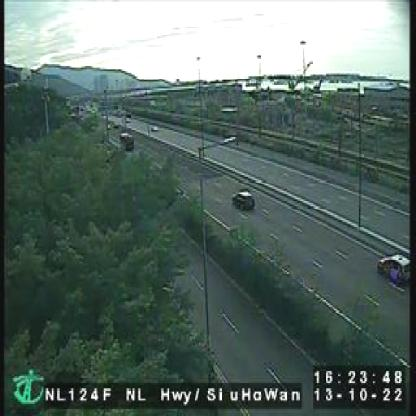Car: (377, 254, 410, 286), (232, 190, 255, 210)
